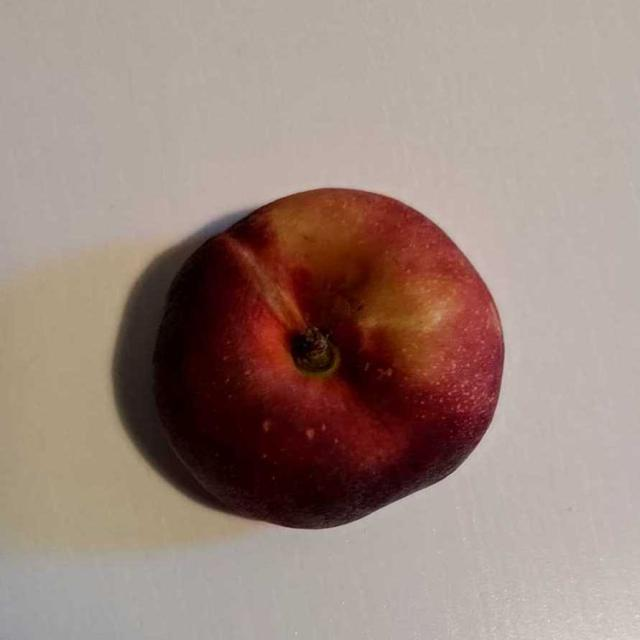peach: (153, 194, 499, 519)
